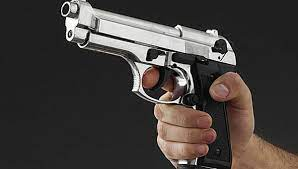gun: (61, 1, 246, 167)
